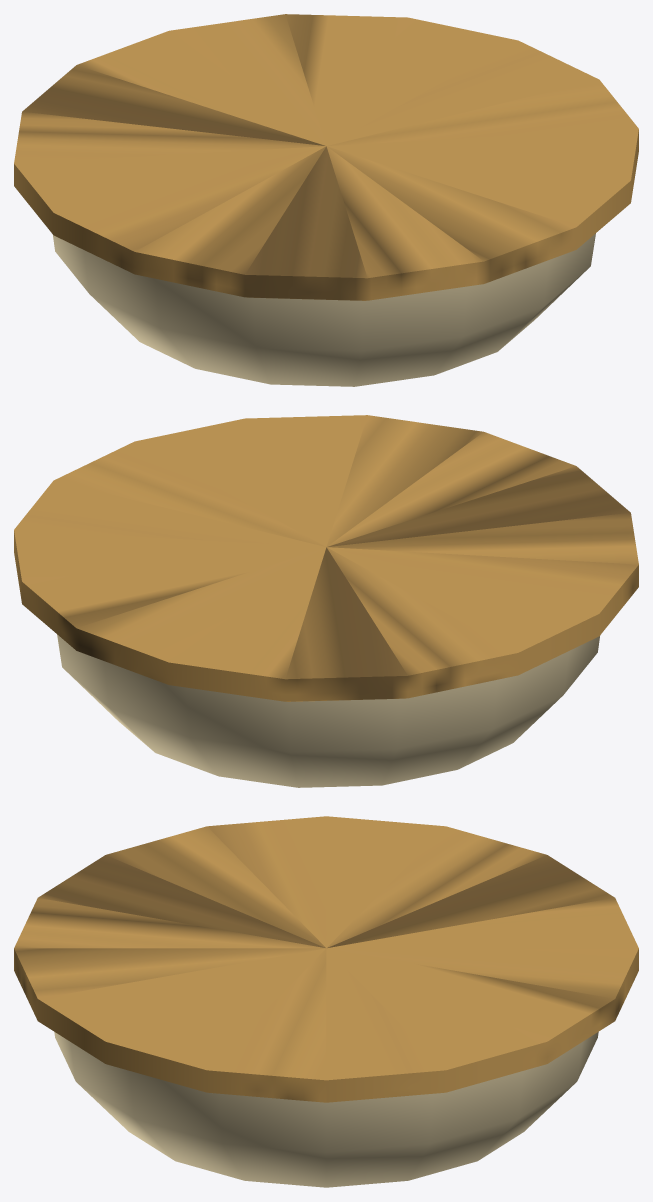
The model's file is FX_Dome.fbx.
3 views of the same model, one above another, from view 1: azimuth 30°, elevation 25°; view 2: azimuth 150°, elevation 25°; view 3: azimuth 270°, elevation 25° (orthographic).
Visible parts, largest first — view 1: FX_Dome, FX_Dome_Emissive; view 2: FX_Dome, FX_Dome_Emissive; view 3: FX_Dome, FX_Dome_Emissive.
Part boxes in pixels (x1=…): FX_Dome: x1=14, y1=14, x2=638, y2=300; FX_Dome_Emissive: x1=52, y1=233, x2=595, y2=386; FX_Dome: x1=14, y1=415, x2=638, y2=701; FX_Dome_Emissive: x1=57, y1=634, x2=600, y2=787; FX_Dome: x1=14, y1=816, x2=638, y2=1102; FX_Dome_Emissive: x1=54, y1=1032, x2=598, y2=1187.
Bounding box in the file's own units: 0.38 × 0.155 × 0.38.
